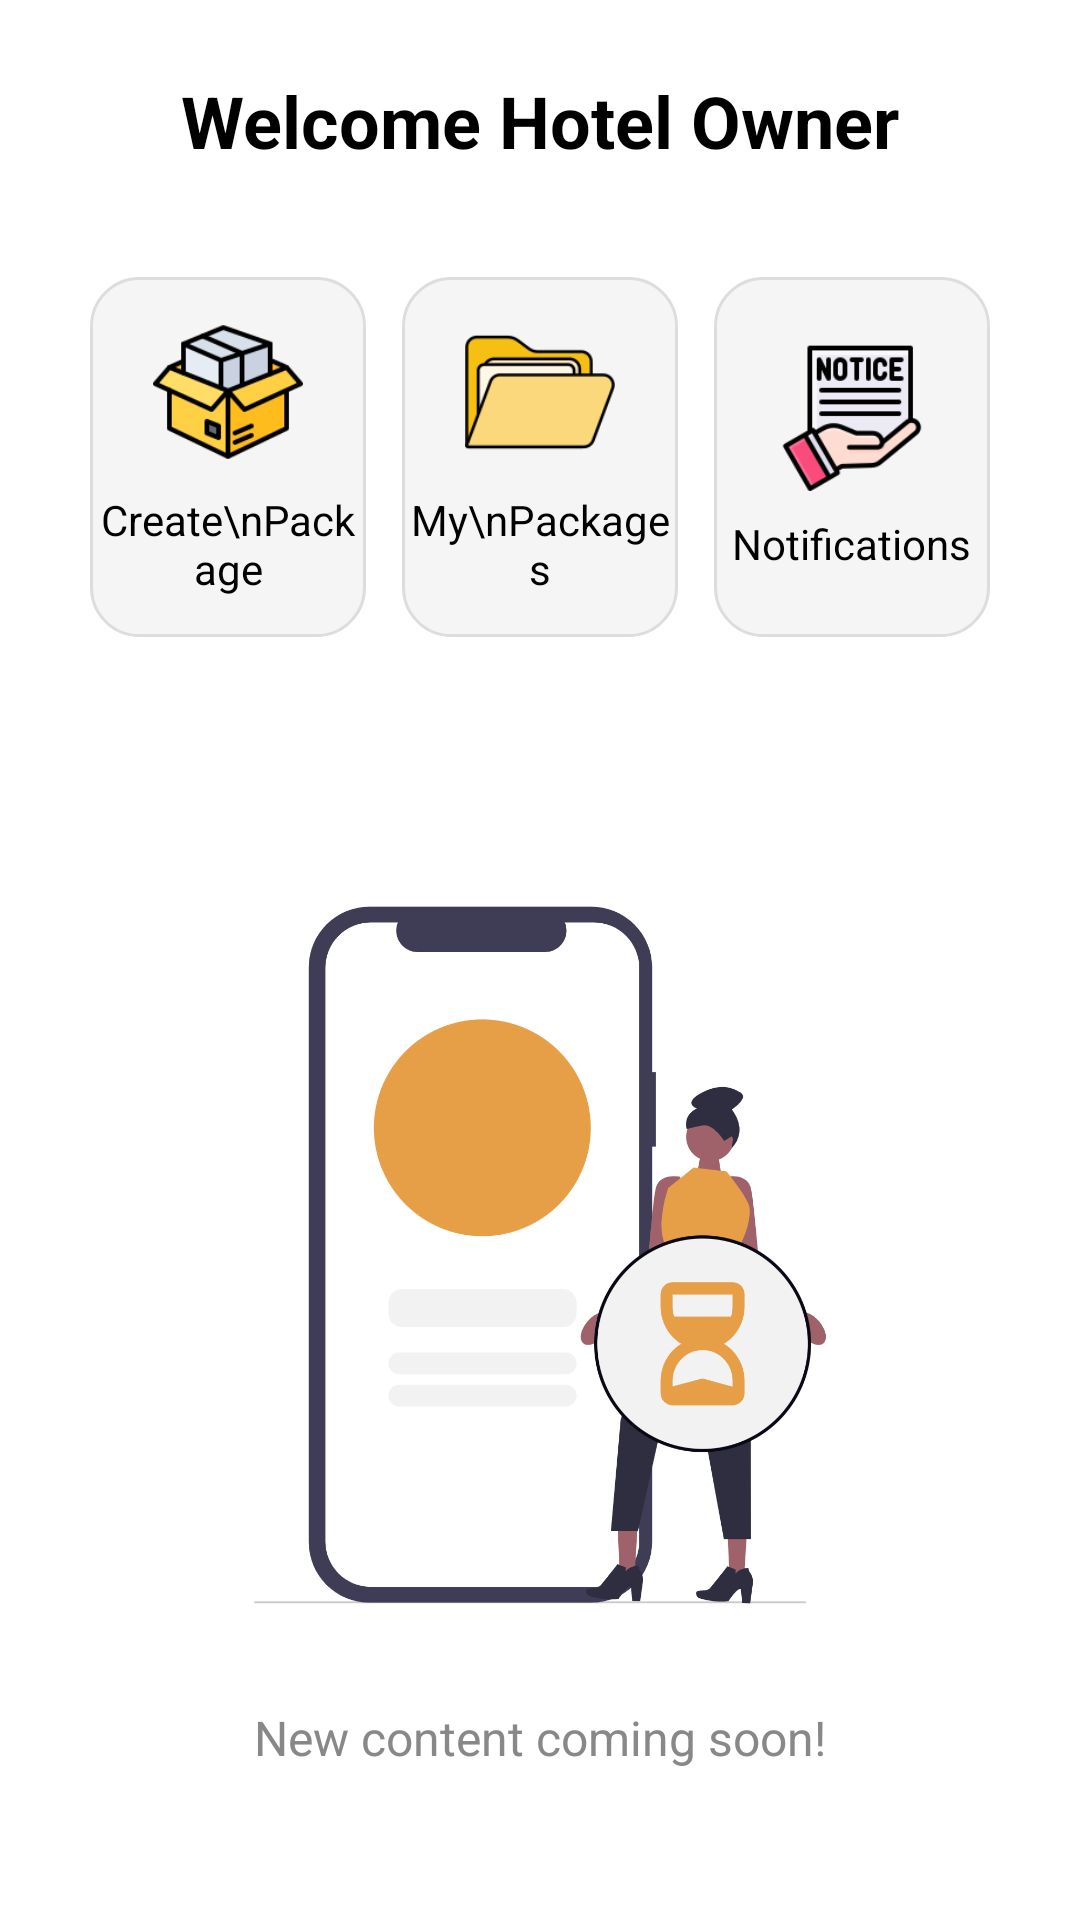

Icons on this 1080x1920 Android screen, each with the point to tap as (x=x, y=y):
add box: (x=228, y=392)
folder: (x=540, y=392)
